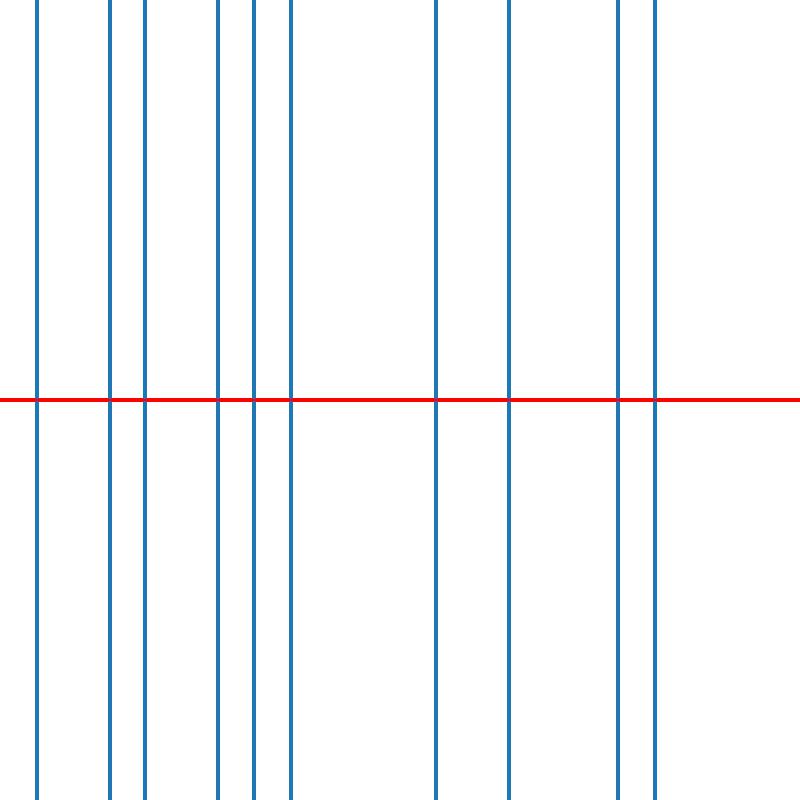root: (250, 396, 258, 404), (141, 396, 149, 404), (32, 396, 40, 404), (432, 396, 440, 404), (650, 396, 658, 404), (105, 396, 112, 404), (214, 396, 221, 404), (287, 396, 294, 404), (614, 396, 621, 404), (505, 396, 512, 404)
